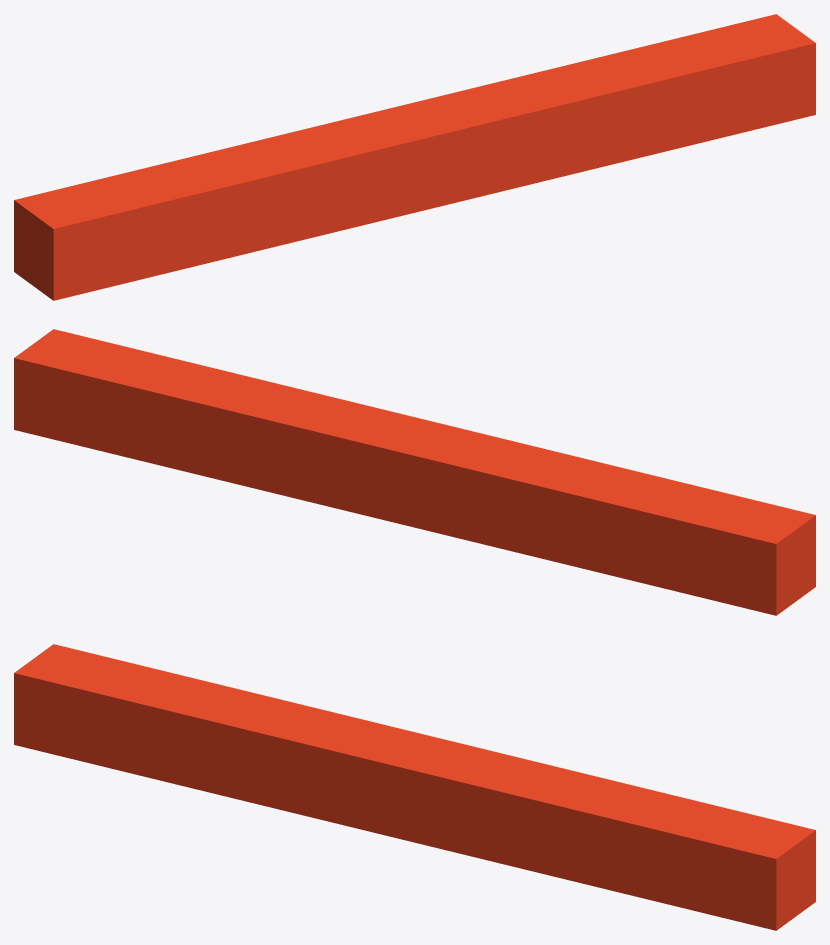
Rendered from SM_Roof_Beam_Wood_2m.fbx.
The picture shows the model from 3 angles, top to bottom: view 1: azimuth 30°, elevation 25°; view 2: azimuth 150°, elevation 25°; view 3: azimuth 330°, elevation 25°; orthographic projection.
Visible parts, largest first — view 1: roof-beam-wood-2m; view 2: roof-beam-wood-2m; view 3: roof-beam-wood-2m.
Boxes of the visible parts, x1,y1,x2,y2 form: roof-beam-wood-2m: (14, 14, 815, 300); roof-beam-wood-2m: (14, 329, 815, 615); roof-beam-wood-2m: (14, 644, 815, 930).
Size of the model in its own units: 2 by 0.18 by 0.18.
